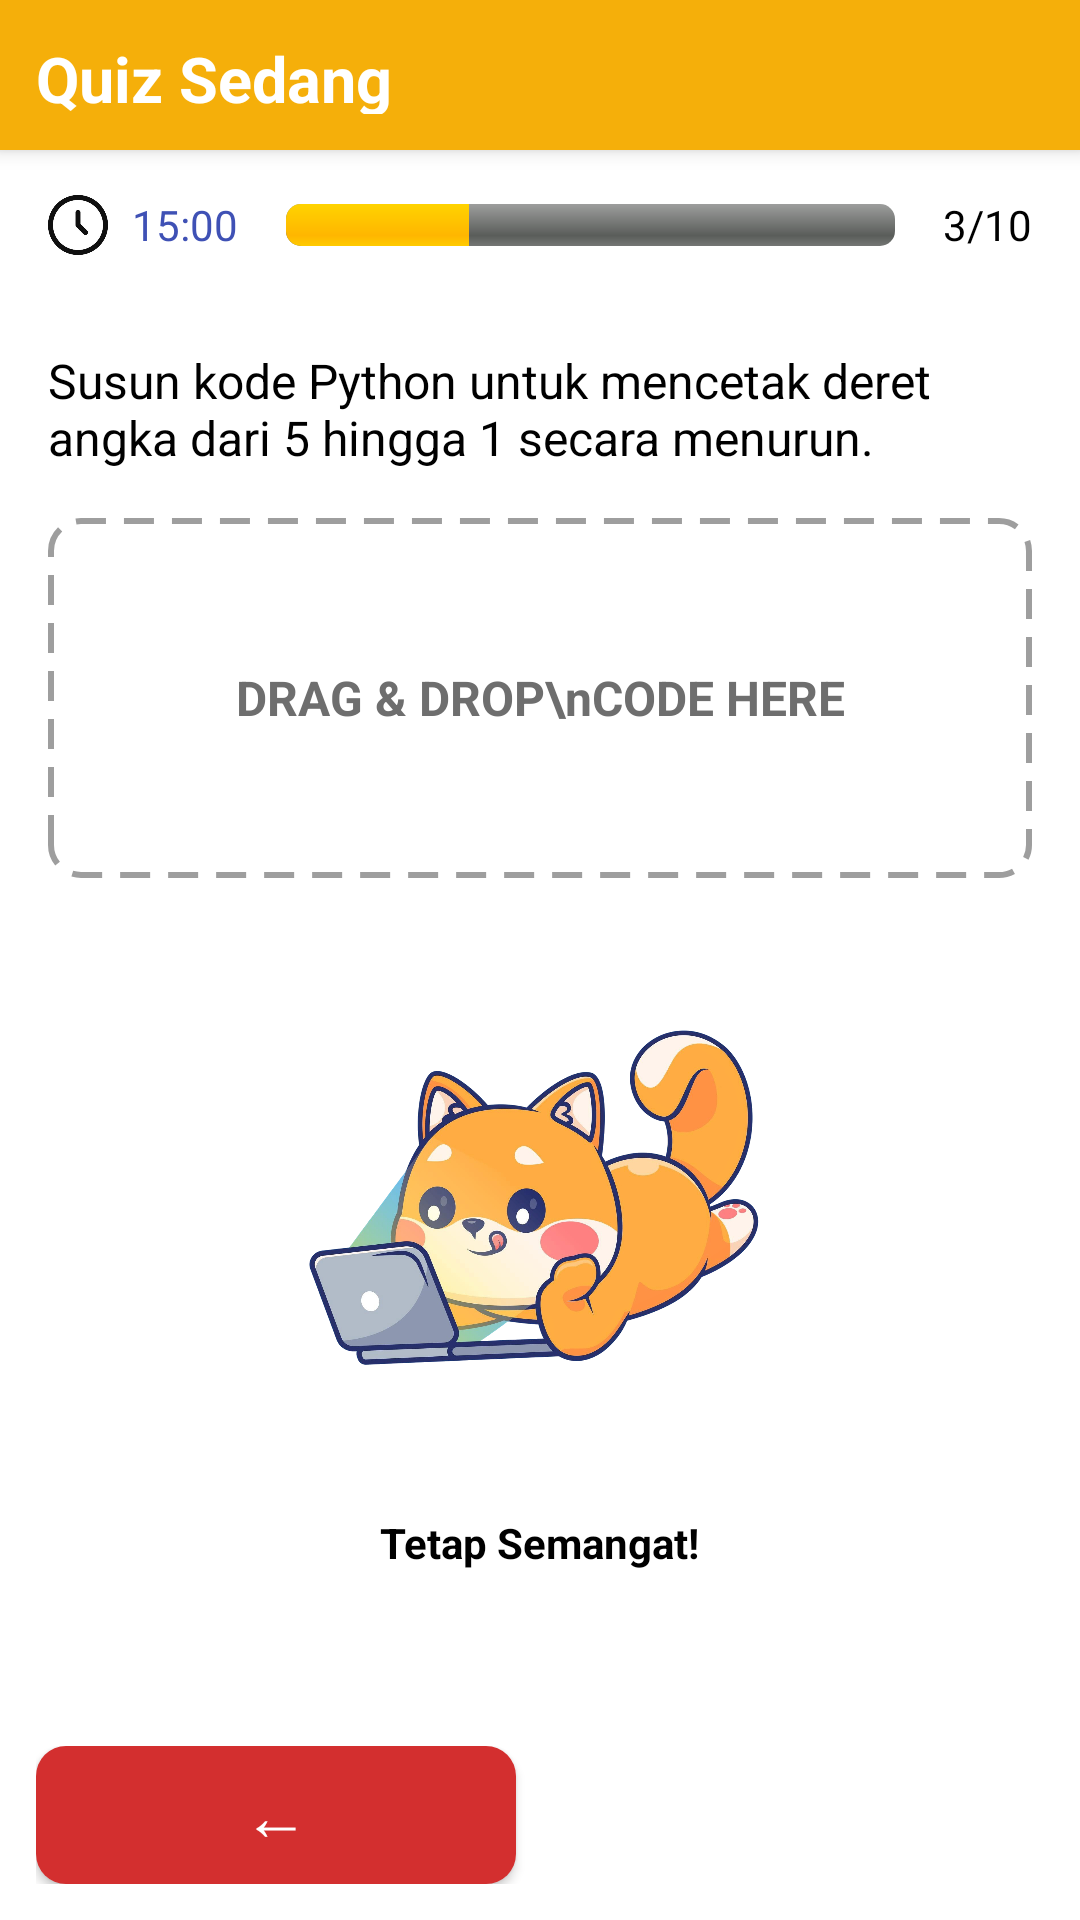

Icon click points for this 1080px x 1920px phone screenshot, format (x=x, y=y):
timer: (x=78, y=225)
